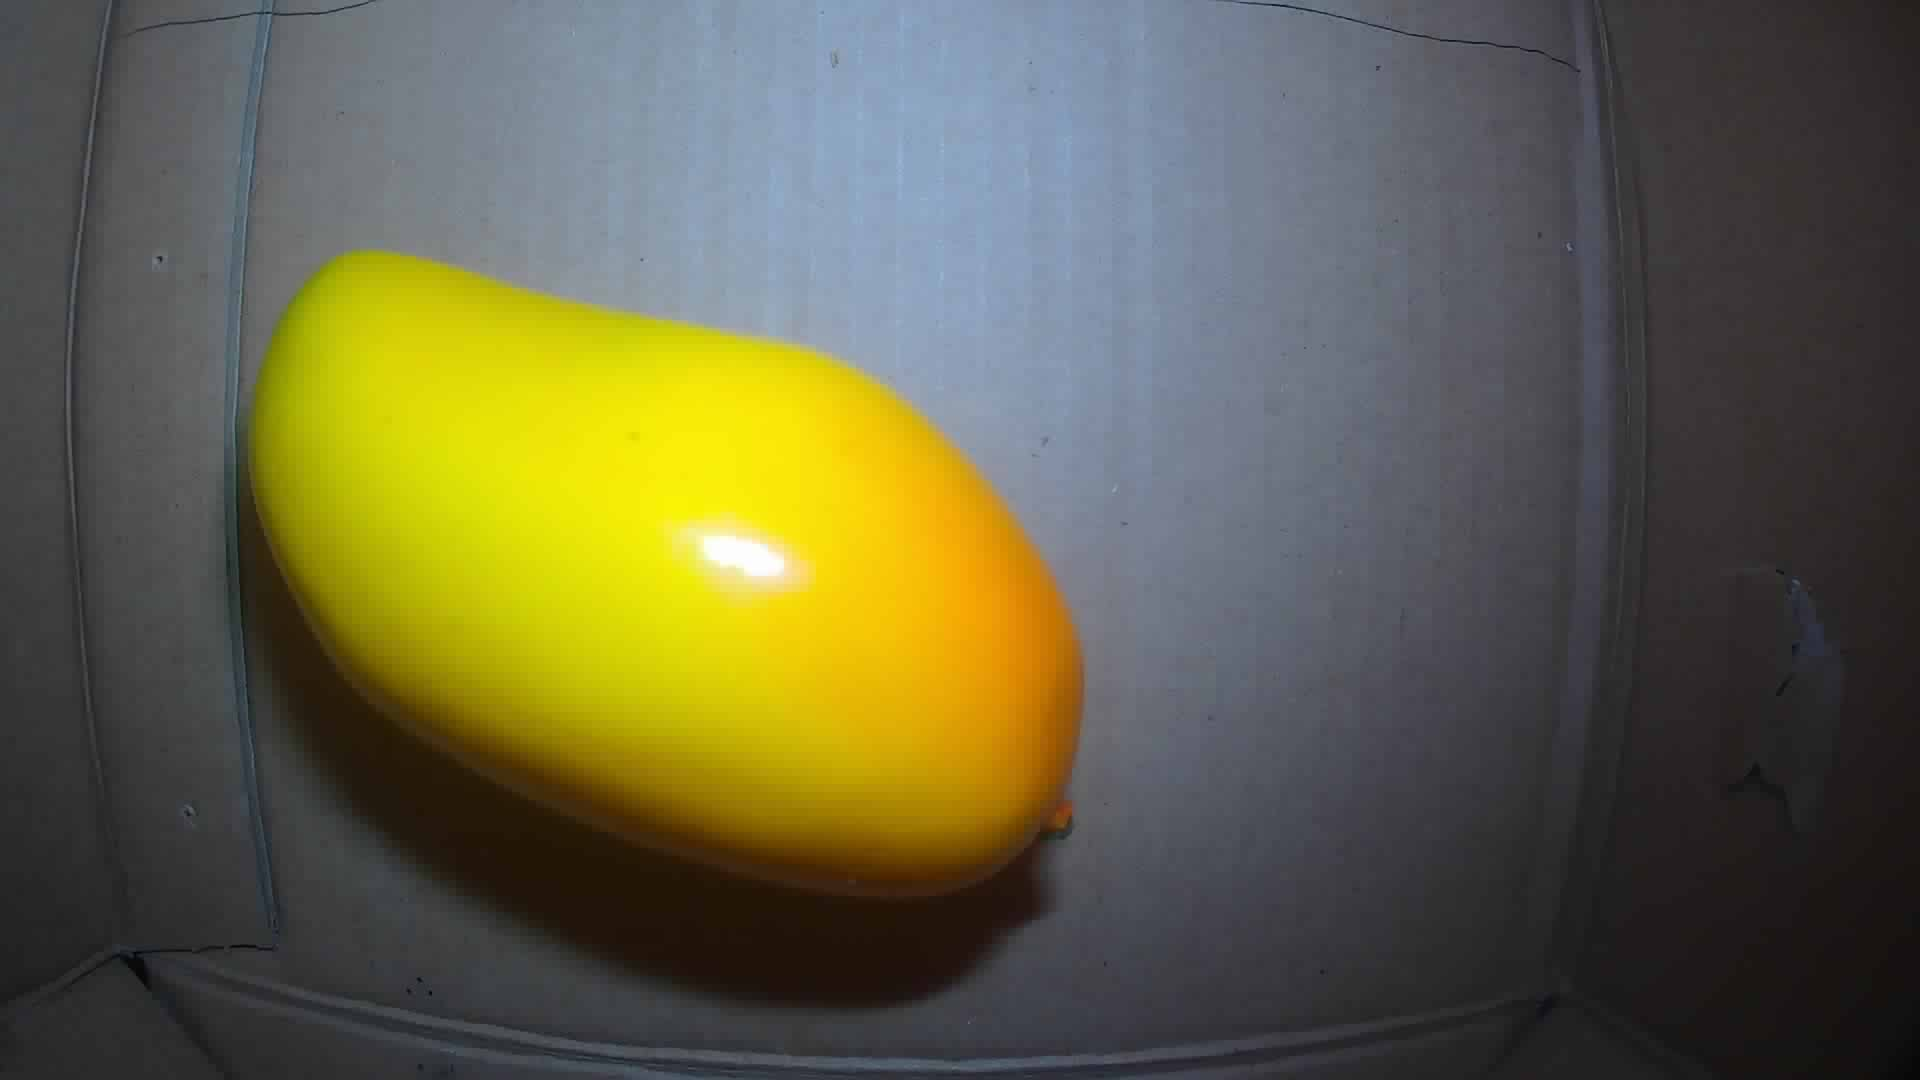mango: (251, 247, 1095, 901)
